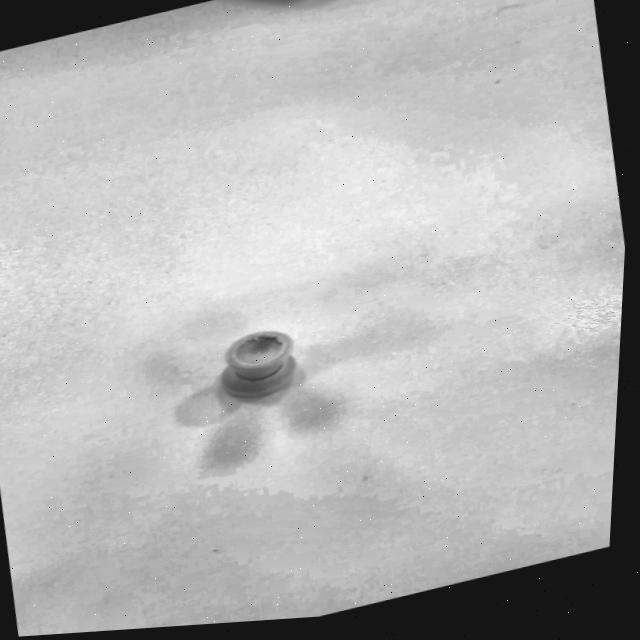white-rook: (188, 307, 341, 430)
